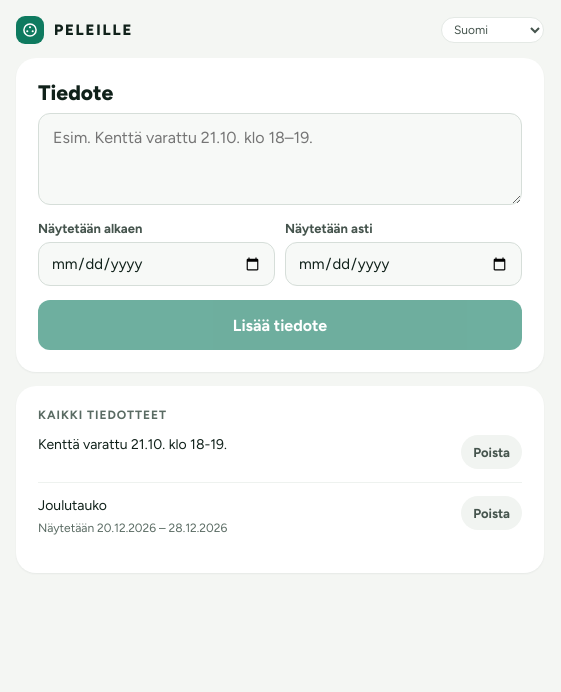
Test: the unlisted announcements page › reports a failure instead of pretending it worked
Expected: the text "Joulutauko" is shown, [38, 497, 107, 514]
Step 1. Click the button "Poista" in the row of "Näytetään 20.12.2026 – 28.12.2026" → point(492, 513), box [461, 496, 522, 530]
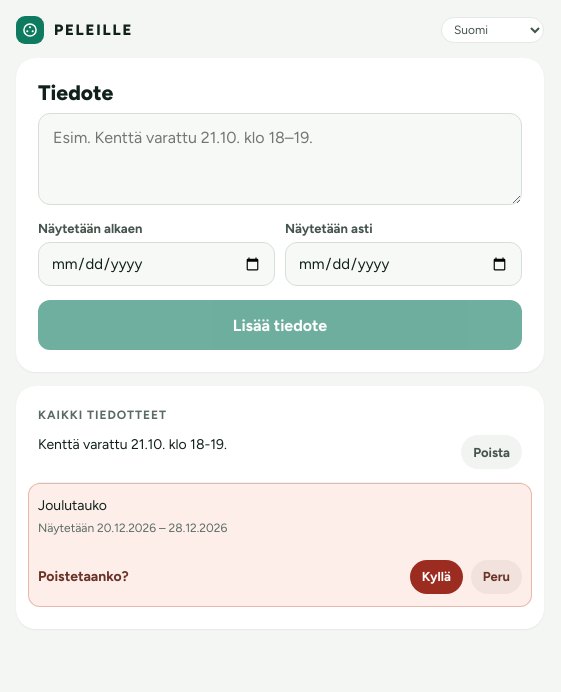
Step 2. Click the button "Kyllä" → point(436, 577), box [410, 560, 463, 594]
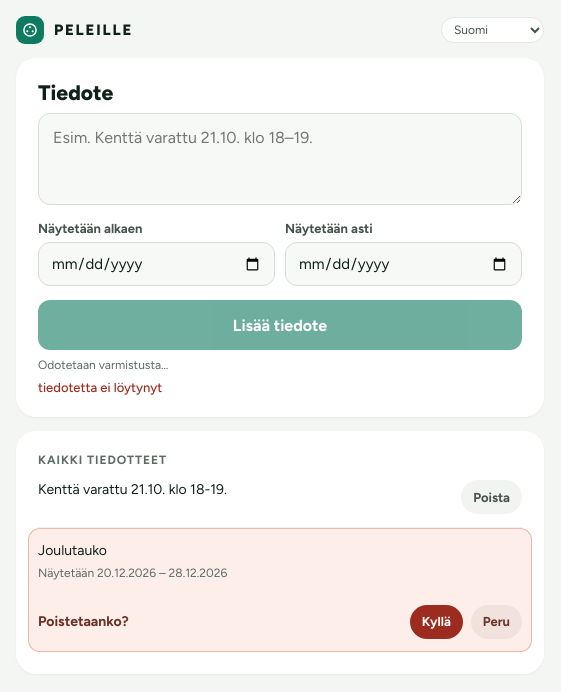
Expected: the message reads "tiedotetta ei löytynyt", [38, 380, 162, 395]
